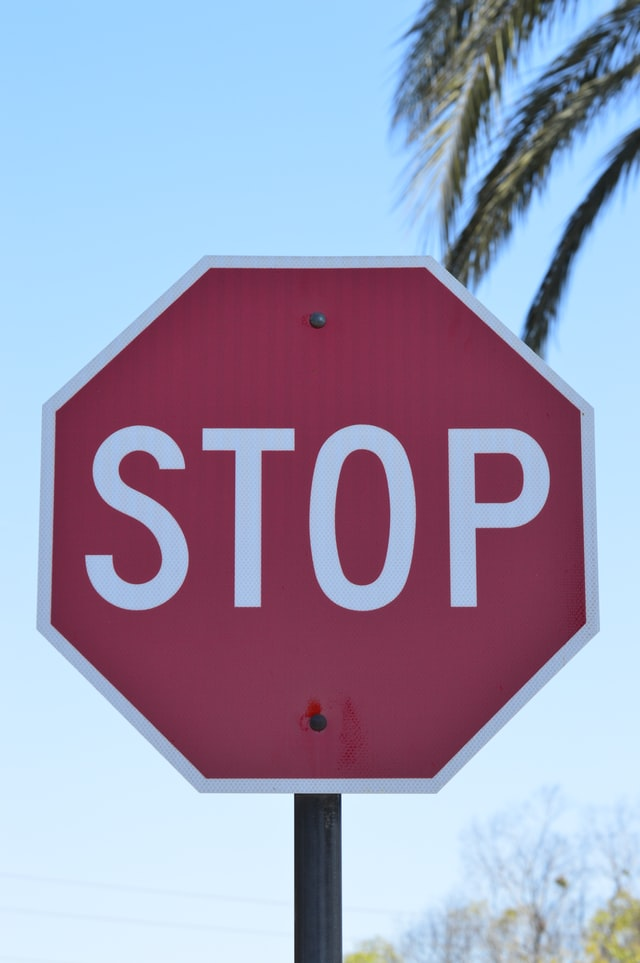STOP: (34, 252, 607, 792)
